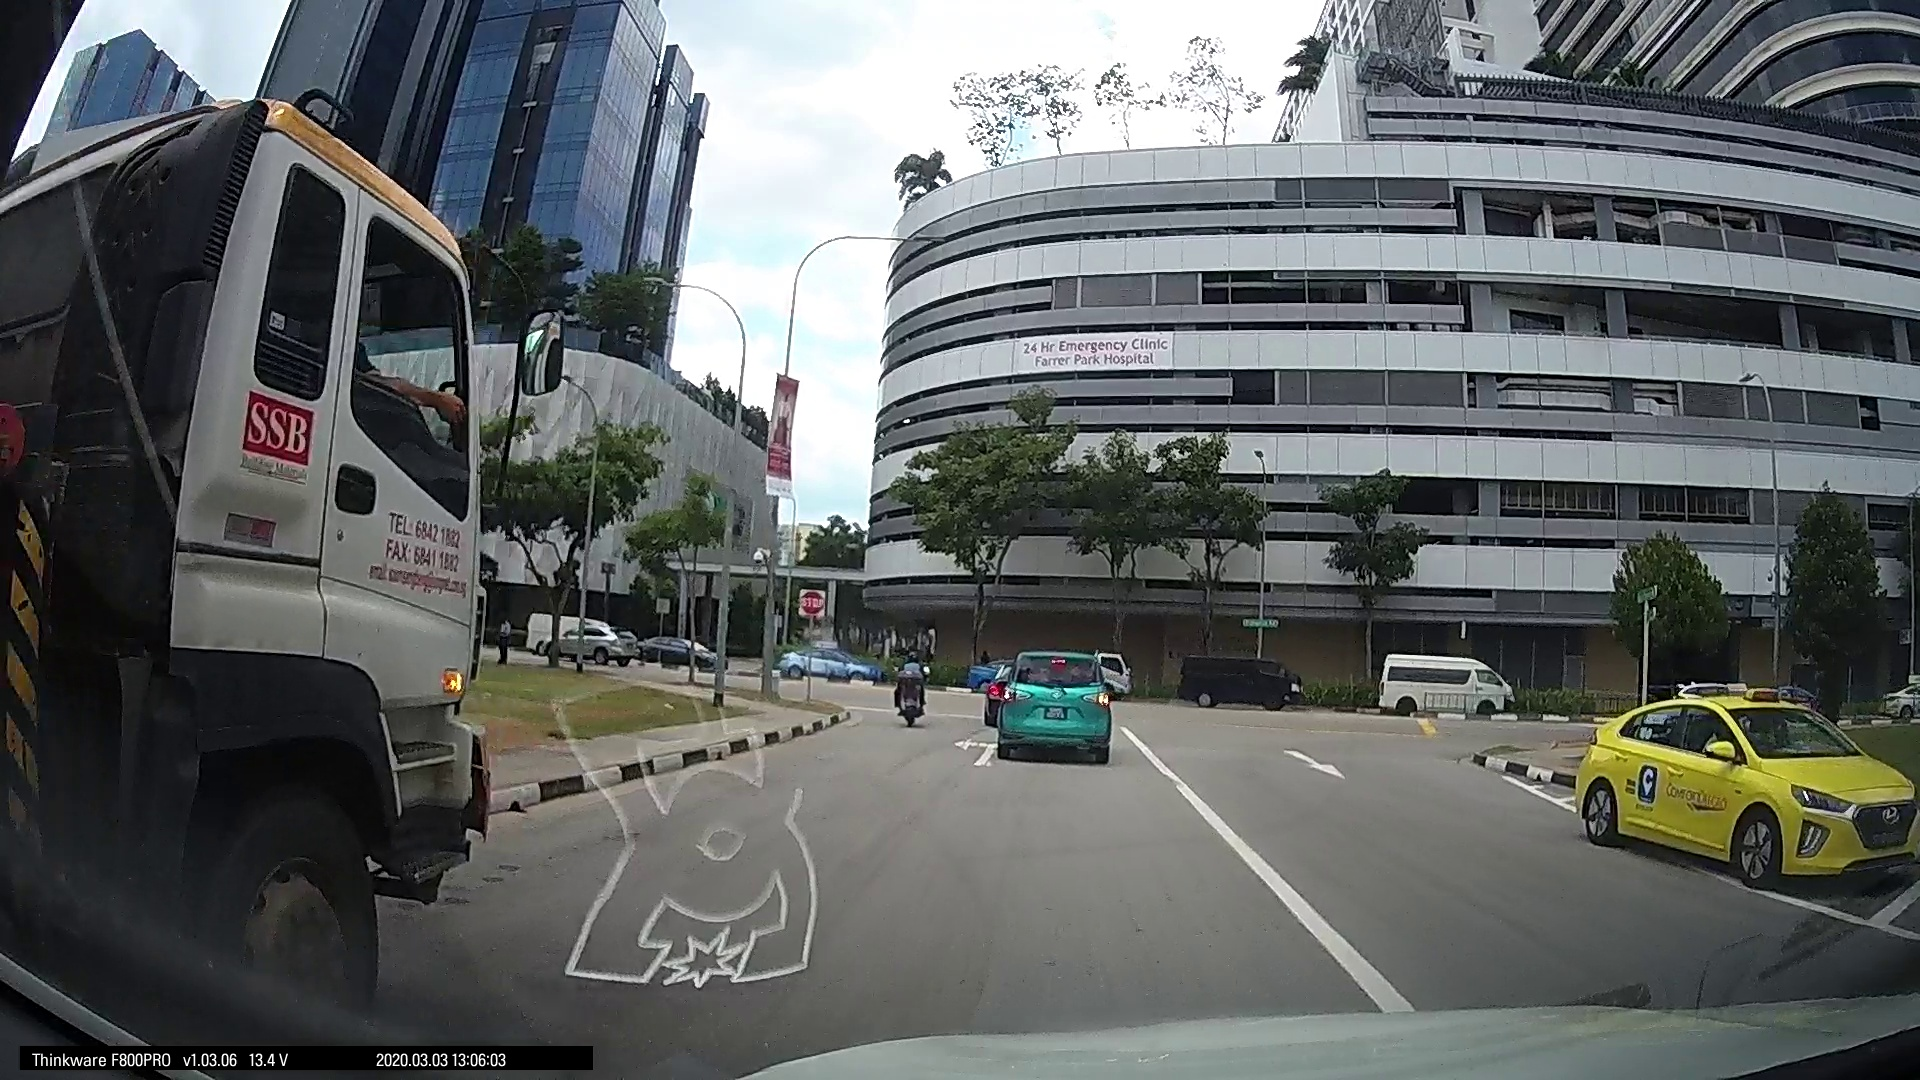Heavy Vehicle: (8, 36, 475, 1001)
Light Vehicle: (1571, 683, 1903, 894), (986, 645, 1116, 764), (1366, 647, 1518, 717), (1171, 646, 1296, 708), (538, 613, 634, 667), (773, 640, 872, 684)
Motorcycle: (887, 644, 927, 724)
